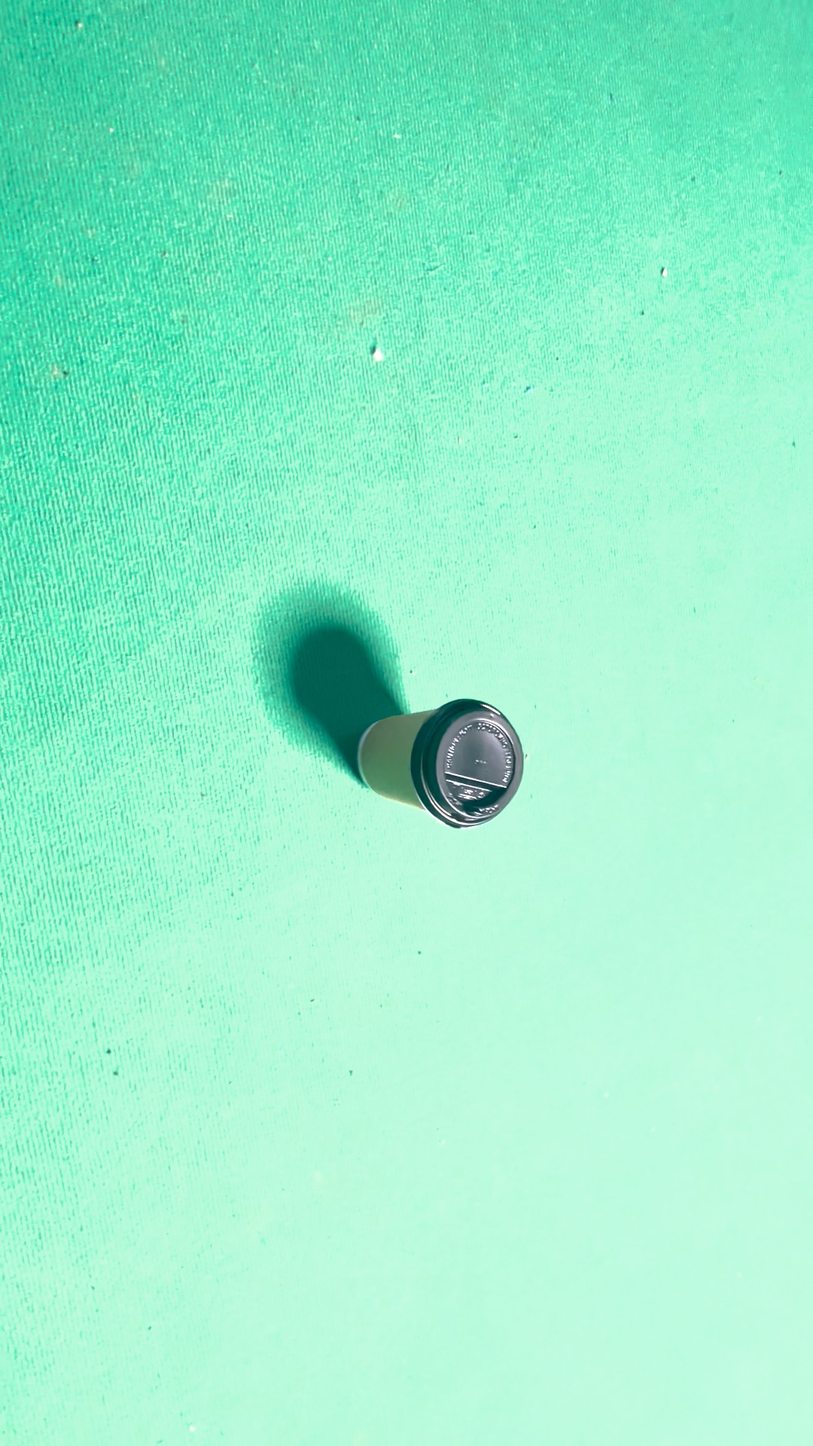cup: (406, 637, 485, 1014)
